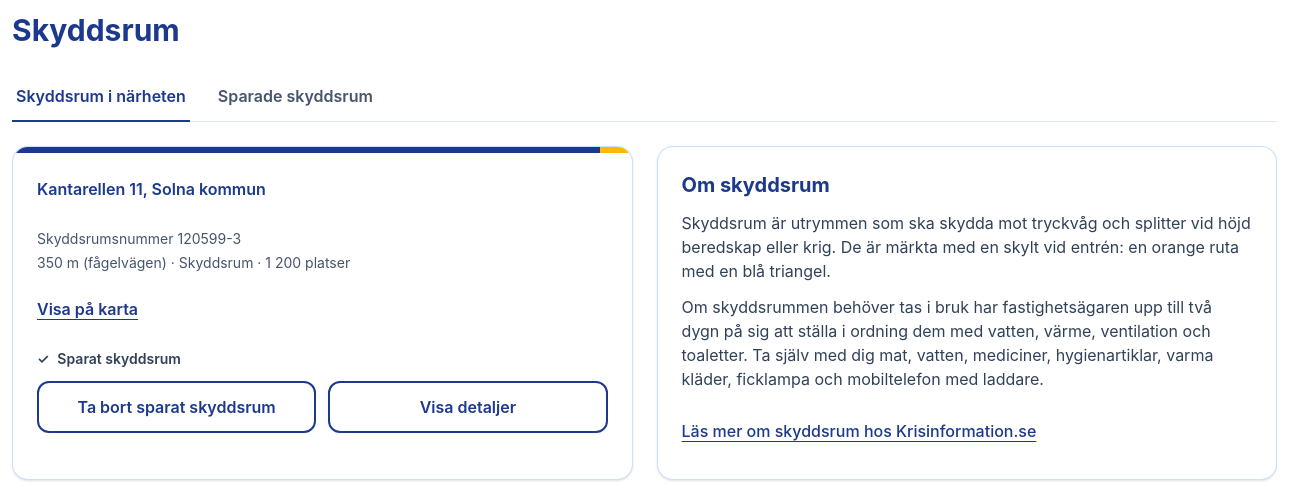
Test: ShelterPage tabs › switches to the saved-shelters panel when that tab is clicked
Click the tab "Sparade skyddsrum": (295, 97) [214, 72, 377, 122]
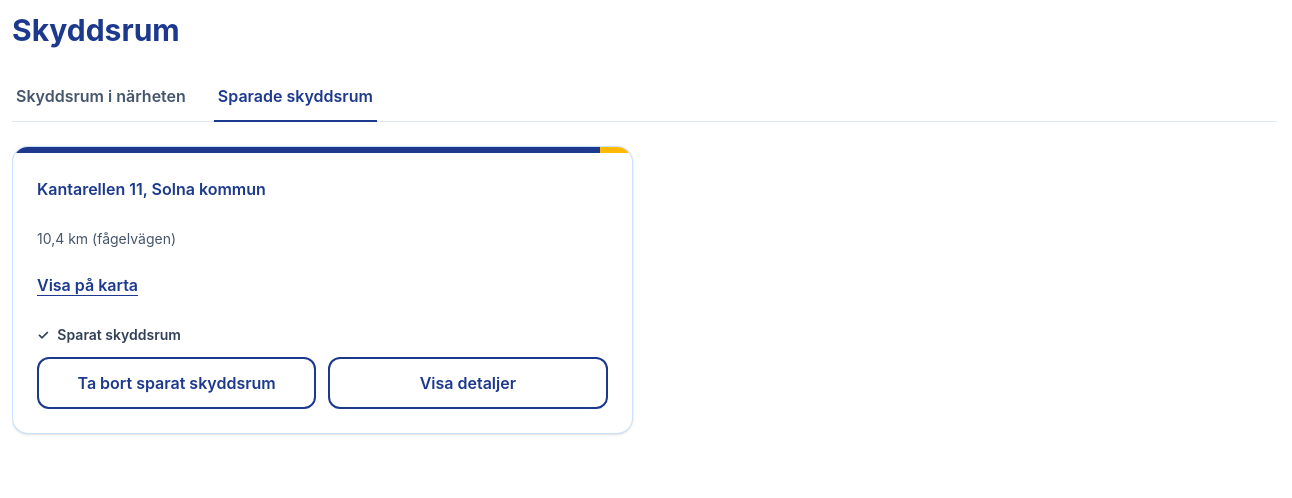
Expected: the list named "Sparade skyddsrum" is shown, [12, 146, 632, 434]
